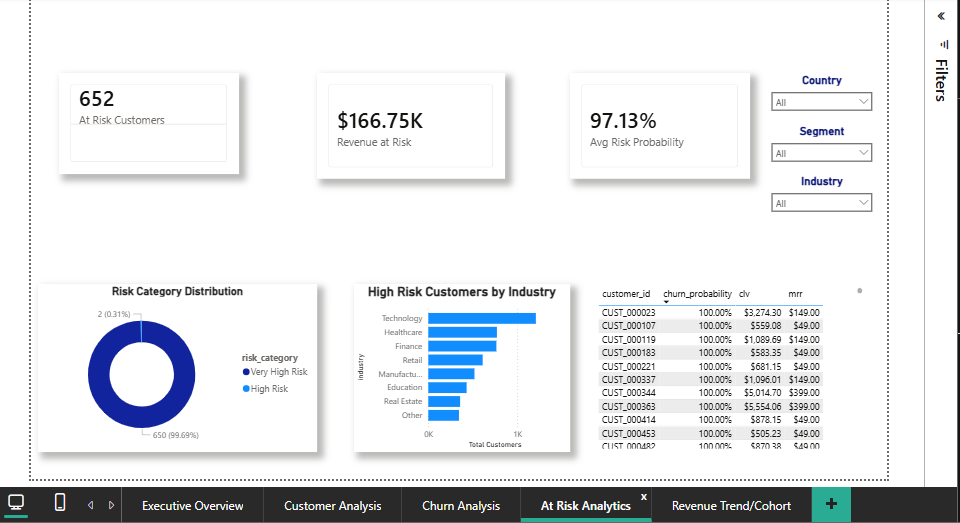

This screenshot's page, from the dashboard's own definition file:
{"tool":"powerbi","page":{"name":"At Risk Analytics","canvas":[1280,720],"ordinal":3},"visuals":[{"type":"donutChart","title":"Risk Category Distribution","fields":{"Category":["saas_analytics at_risk_customers.risk_category"],"Y":["saas_analytics customers.Total Customers"]},"box":[10.5,428.7,416.8,251],"z":3},{"type":"cardVisual","fields":{"Data":["saas_analytics at_risk_customers.At Risk Customers"]},"box":[41.8,113.5,268.9,150.9],"z":4},{"type":"cardVisual","fields":{"Data":["saas_analytics at_risk_customers.Revenue at Risk"]},"box":[427.2,113.5,280.8,158.3],"z":5},{"type":"cardVisual","fields":{"Data":["saas_analytics at_risk_customers.Avg Risk Probability"]},"box":[805.1,113.5,268.9,158.3],"z":6},{"type":"clusteredBarChart","title":"High Risk Customers by Industry","fields":{"Y":["saas_analytics customers.Total Customers"],"Category":["saas_analytics customers.industry"]},"box":[482.5,428.7,322.7,251],"z":7},{"type":"tableEx","fields":{"Values":["saas_analytics customers.customer_id","saas_analytics at_risk_customers.churn_probability","saas_analytics customers.clv","saas_analytics customers.mrr"]},"box":[842.5,428.7,404.8,251],"z":8},{"type":"slicer","title":"Country","fields":{"Values":["saas_analytics customers.country"]},"box":[1096.4,113.5,170.3,76.2],"z":9},{"type":"slicer","title":"Segment","fields":{"Values":["saas_analytics customers.segment"]},"box":[1096.4,189.7,170.3,68.7],"z":10},{"type":"slicer","title":"Industry","fields":{"Values":["saas_analytics customers.industry"]},"box":[1096.4,264.4,170.3,67.2],"z":11}]}

Visuals, with their boxes on the page's 1280x720 design canvas (x1, y1, x2, y2). These are canvas units, not pixel positions in the 960x523 screenshot, which may show the page scaled, cropped or inside an application window:
"Risk Category Distribution" donutChart: x1=10, y1=429, x2=427, y2=680
cardVisual - saas_analytics at_risk_customers.At Risk Customers: x1=42, y1=114, x2=311, y2=264
cardVisual - saas_analytics at_risk_customers.Revenue at Risk: x1=427, y1=114, x2=708, y2=272
cardVisual - saas_analytics at_risk_customers.Avg Risk Probability: x1=805, y1=114, x2=1074, y2=272
"High Risk Customers by Industry" clusteredBarChart: x1=482, y1=429, x2=805, y2=680
tableEx - saas_analytics customers.customer_id x saas_analytics at_risk_customers.churn_probability: x1=842, y1=429, x2=1247, y2=680
"Country" slicer: x1=1096, y1=114, x2=1267, y2=190
"Segment" slicer: x1=1096, y1=190, x2=1267, y2=258
"Industry" slicer: x1=1096, y1=264, x2=1267, y2=332
